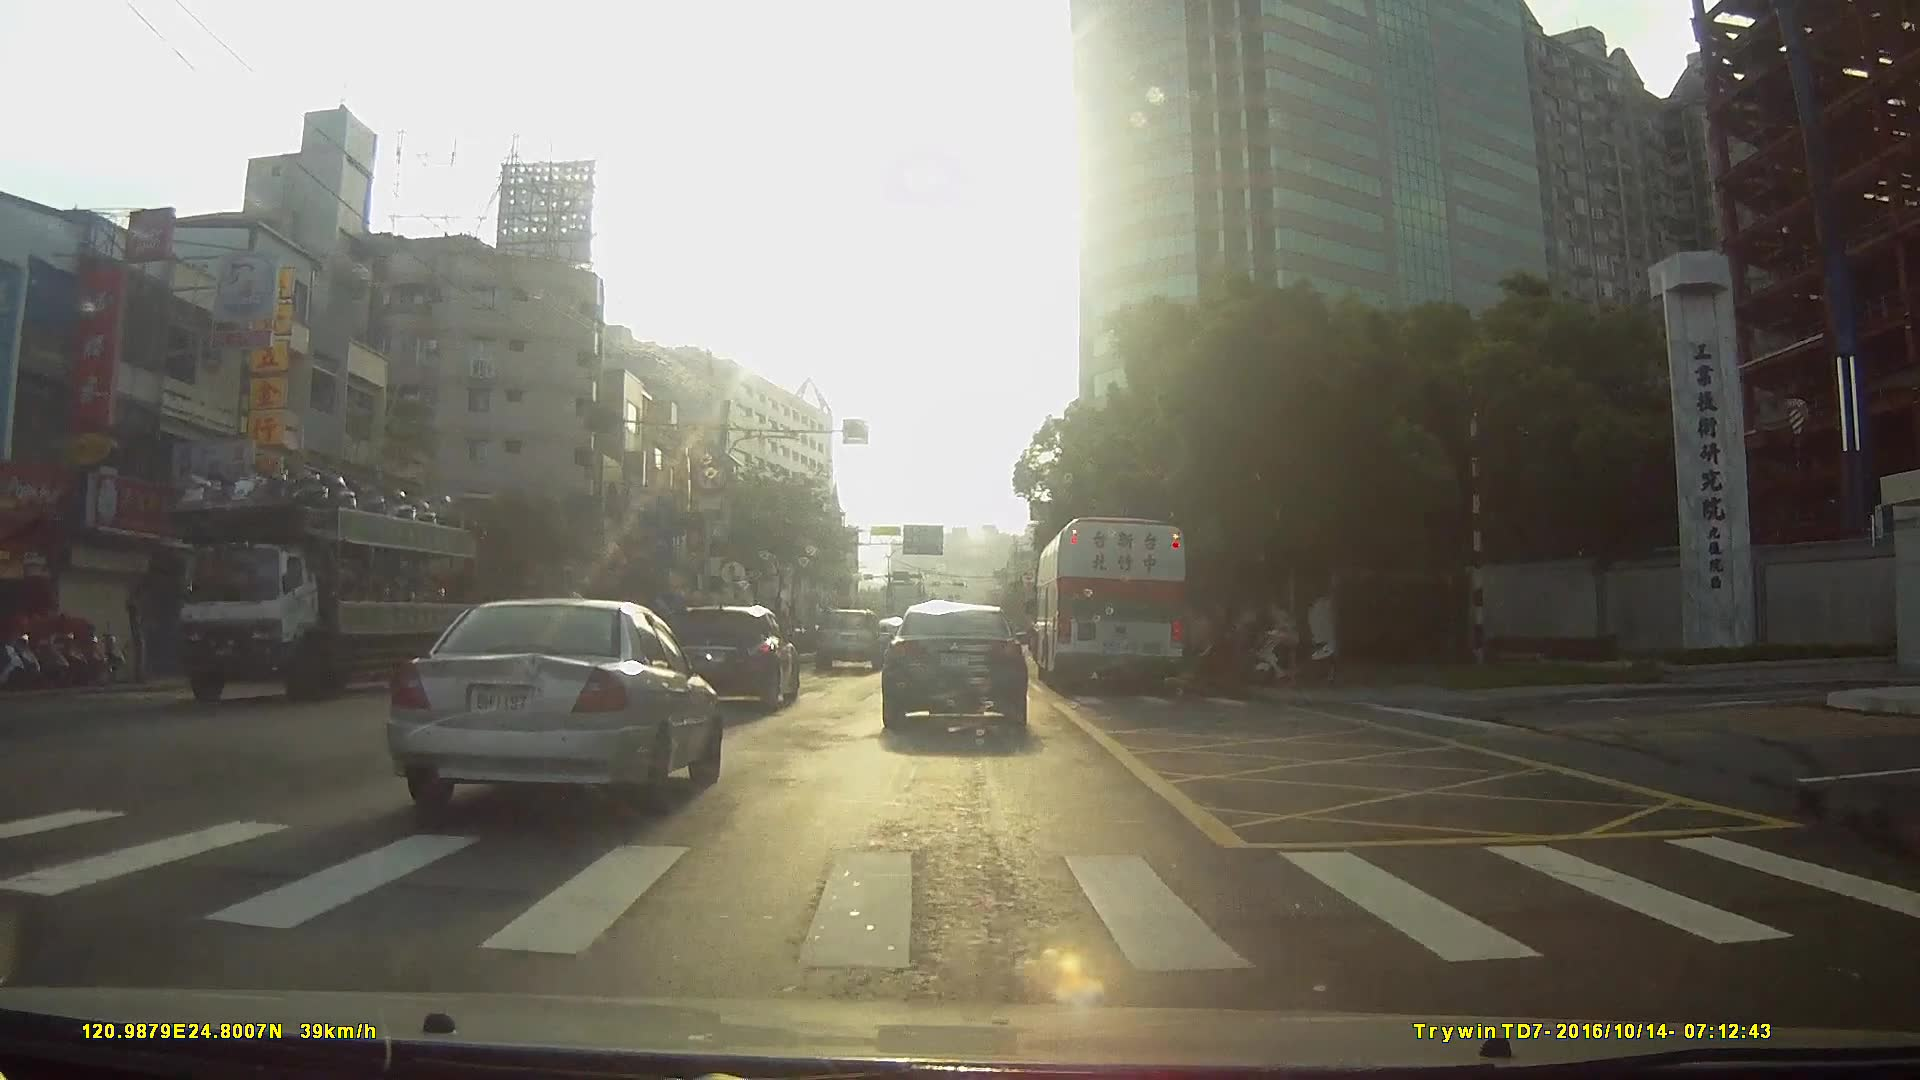vehicle: (156, 454, 491, 713), (377, 595, 717, 818), (1036, 512, 1191, 696), (880, 600, 1029, 736), (669, 605, 800, 711), (815, 607, 886, 673)
